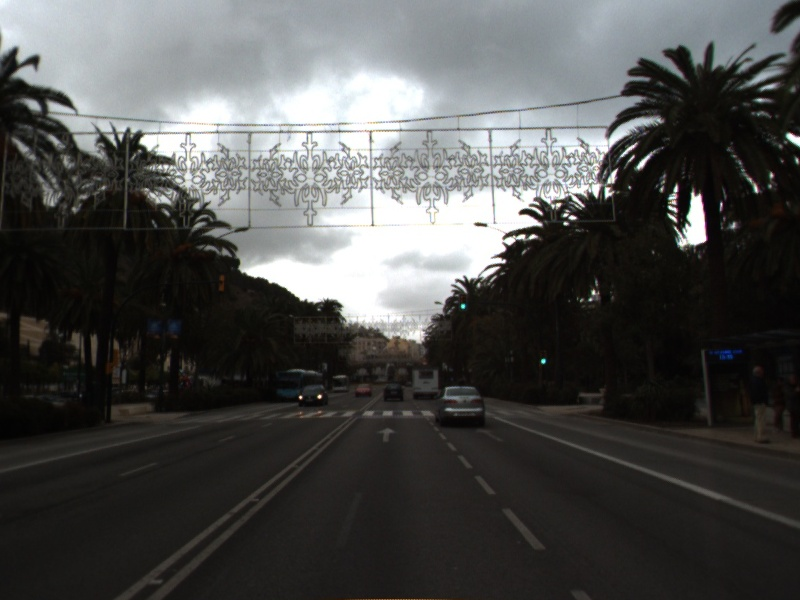STRAIGHT: (474, 426, 505, 443), (374, 425, 399, 444)
